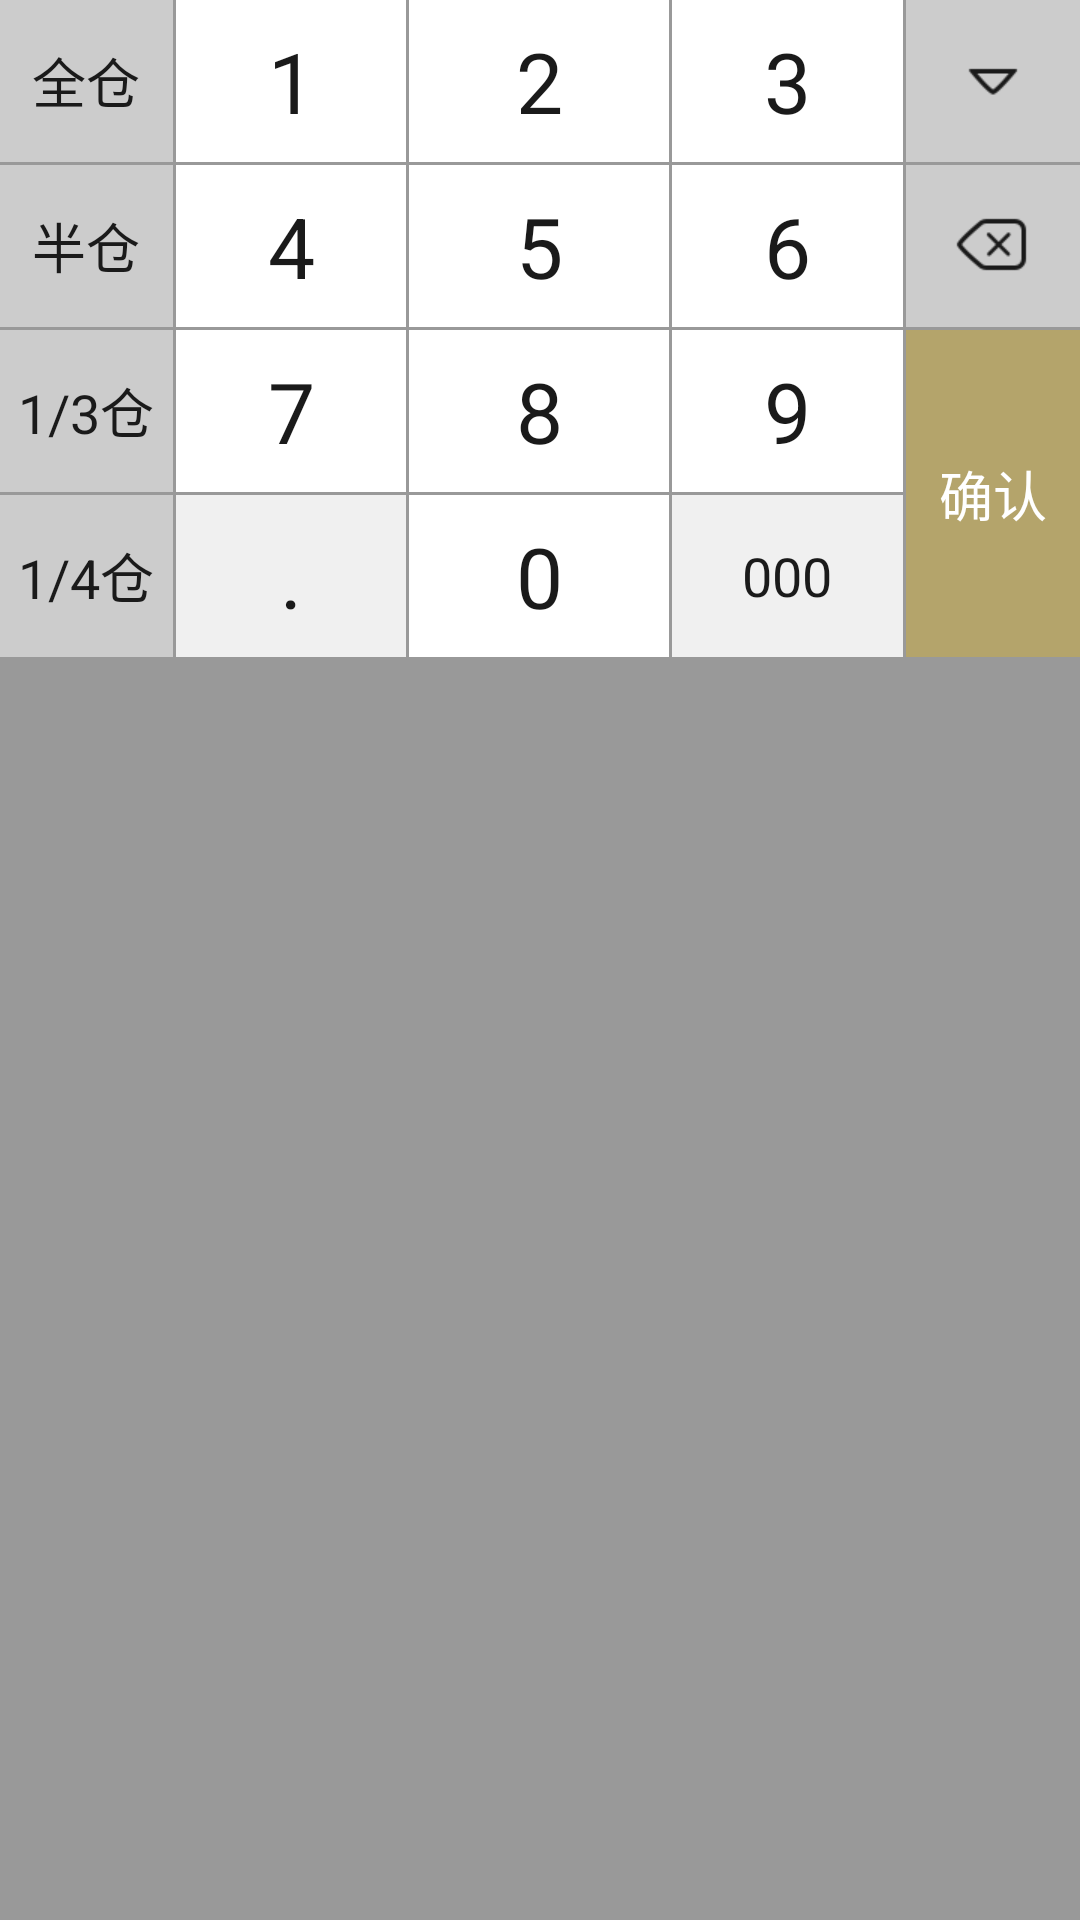

Locate icon controls on the screen. Image size 1080 x 1920, boxes as (x1, y1, x2, y2).
keyboard backspace: (956, 218, 1027, 271)
keyboard pushdown: (969, 68, 1017, 95)
